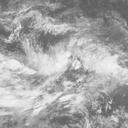cyclone: (36, 41, 105, 92)
